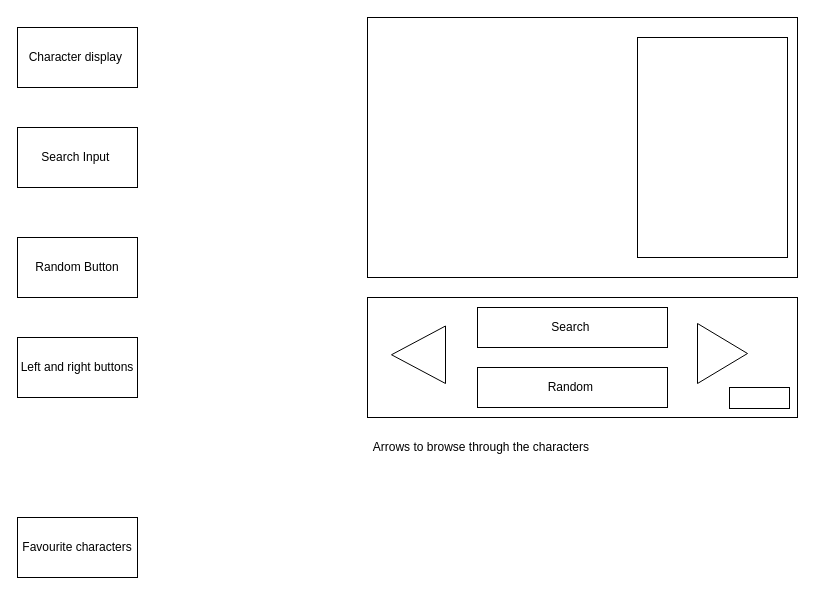
Image size: 815x595. Some labels were removed from this diagram. Here are the shapes that lost their labels. From the top down, the box of each, then its label:
(366, 16, 798, 278): Display
(728, 386, 790, 408): Save
